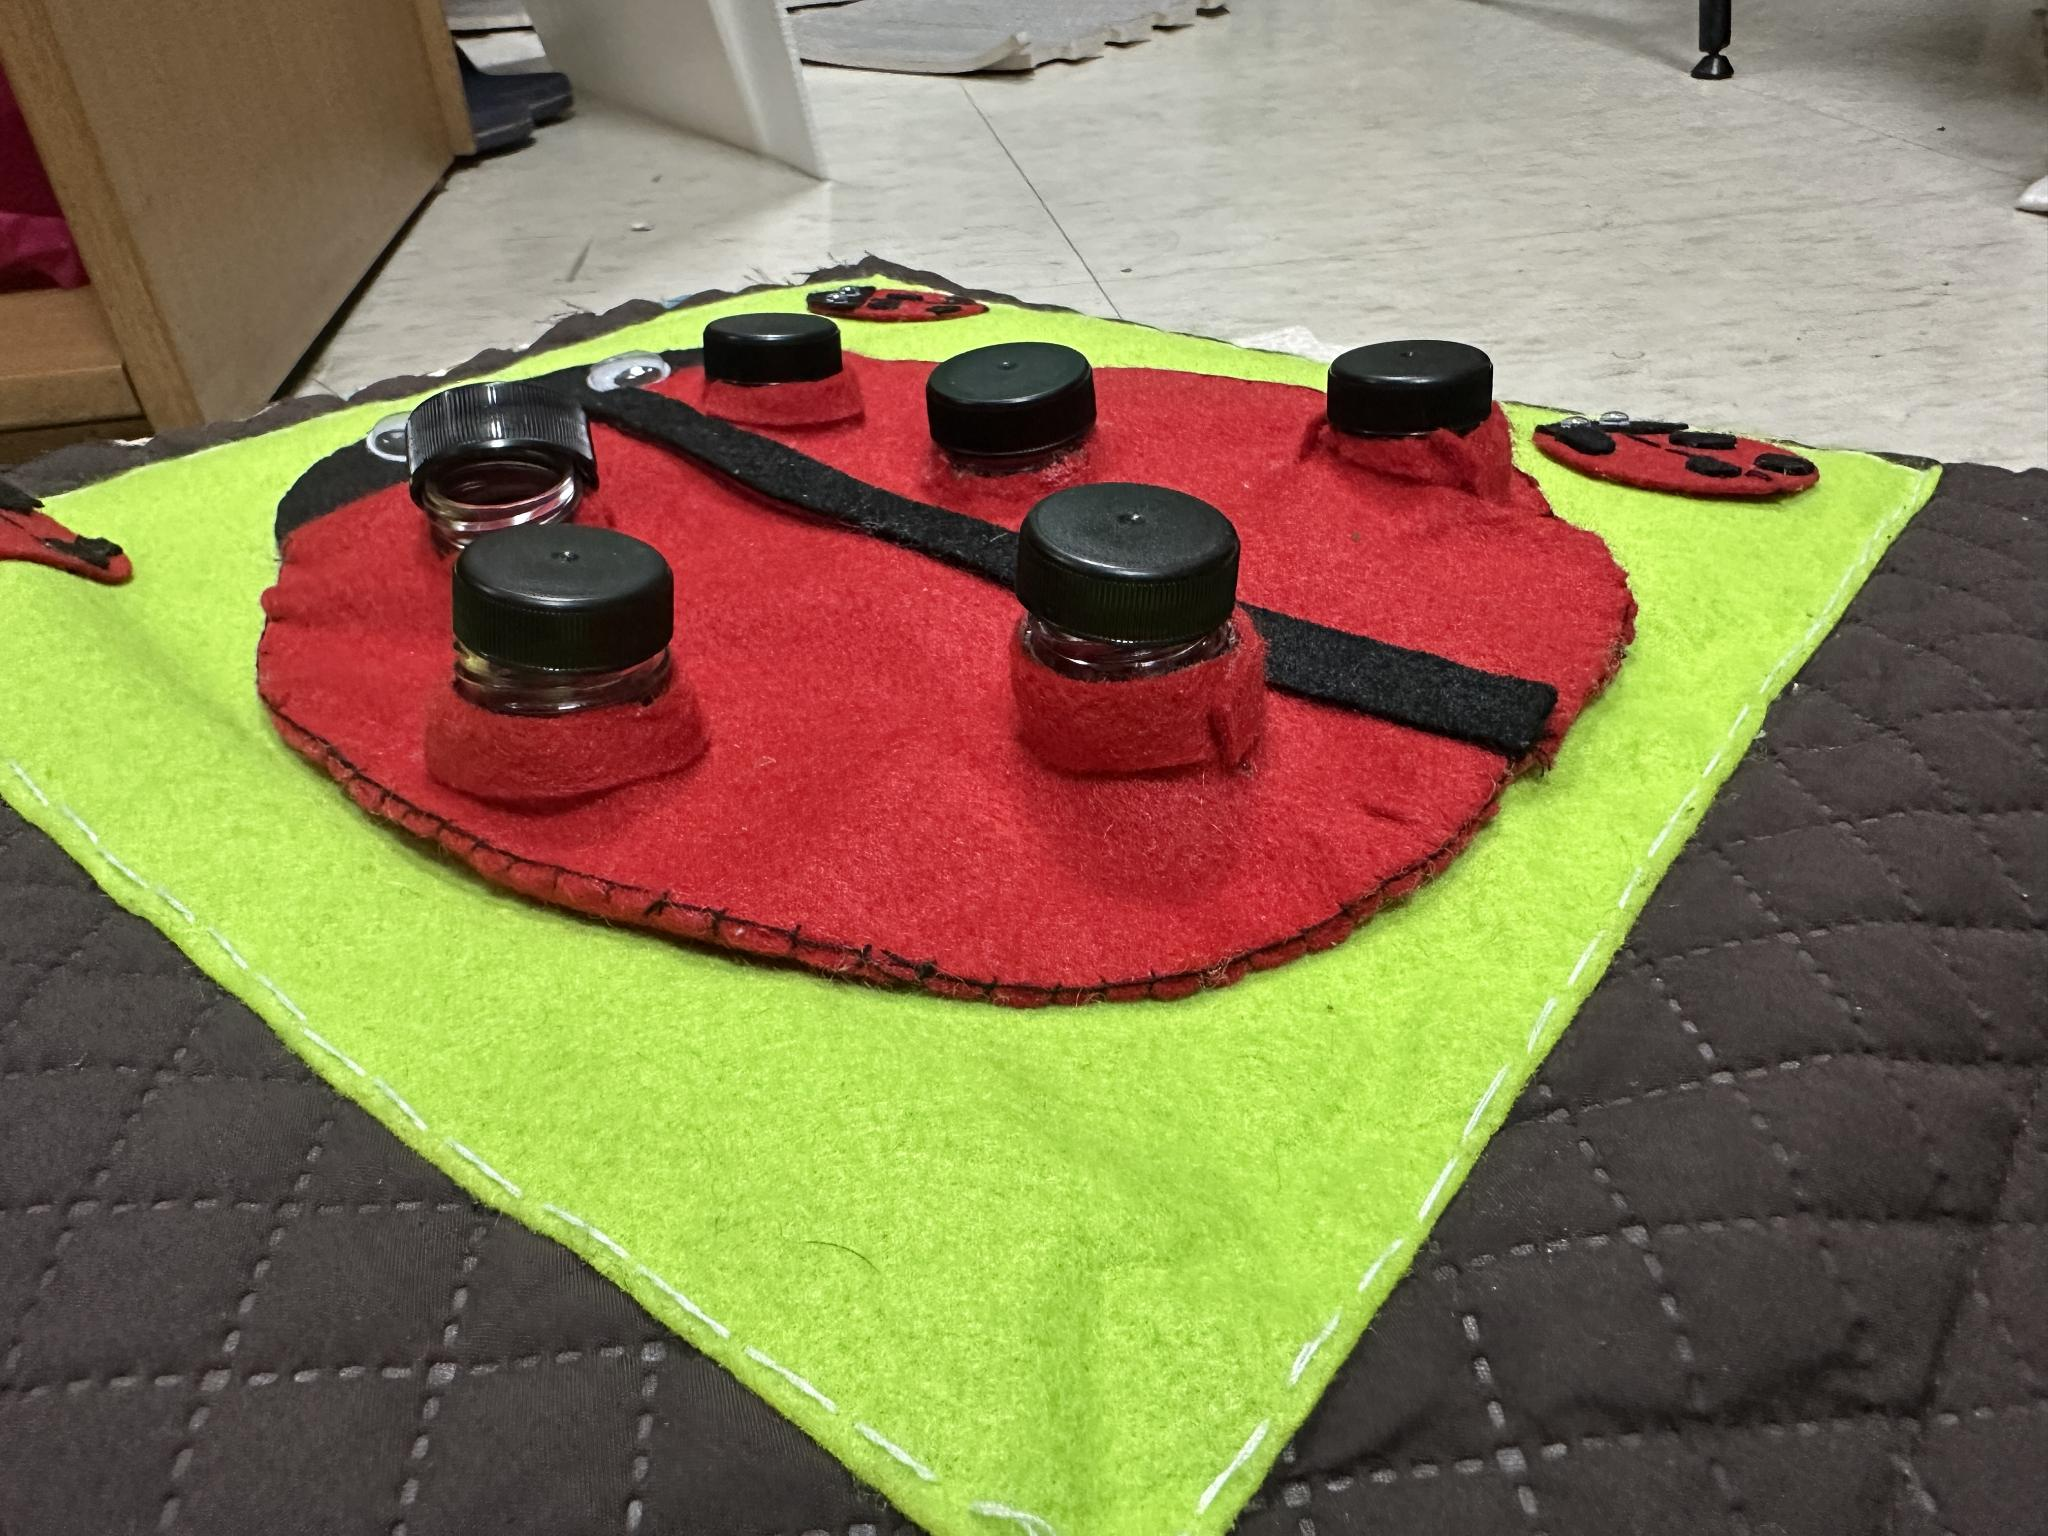cap_ng: (997, 486, 1300, 799), (424, 516, 716, 805), (397, 374, 627, 571)
cap_ok: (1290, 295, 1537, 507), (921, 326, 1119, 494), (693, 305, 874, 455)
